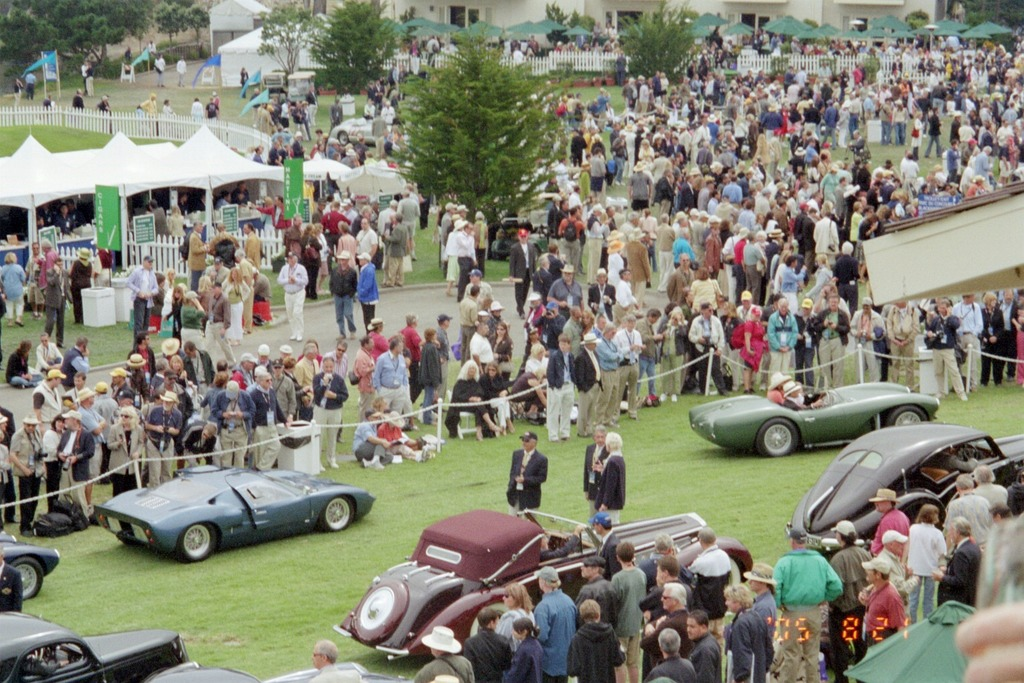Car: (329, 508, 755, 664), (780, 423, 1023, 566), (90, 466, 374, 563), (687, 384, 939, 459), (0, 609, 189, 682), (0, 529, 59, 602), (332, 117, 400, 146), (286, 70, 321, 106)
